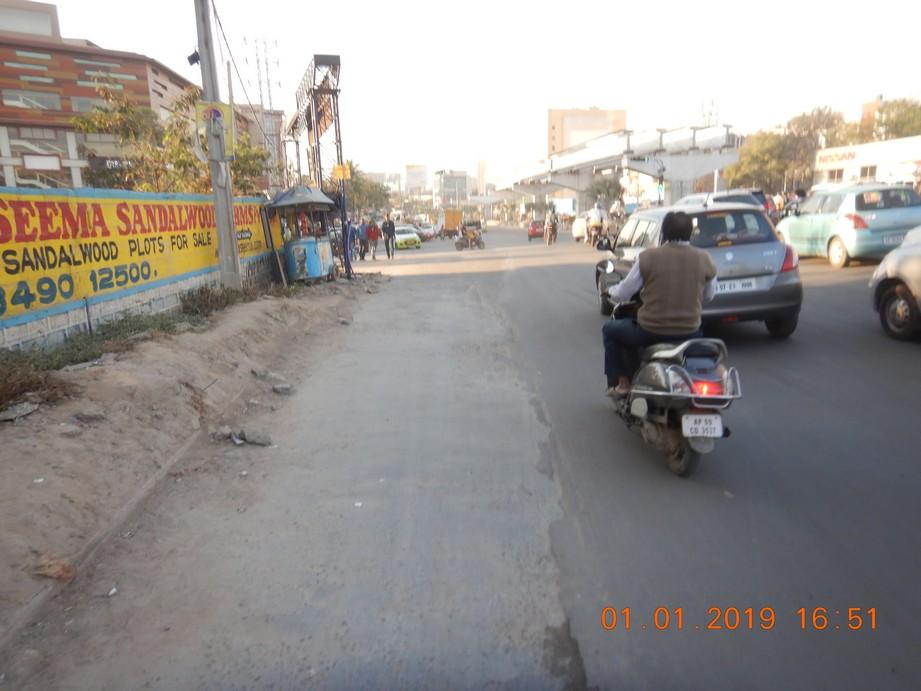plate: (686, 412, 720, 438)
